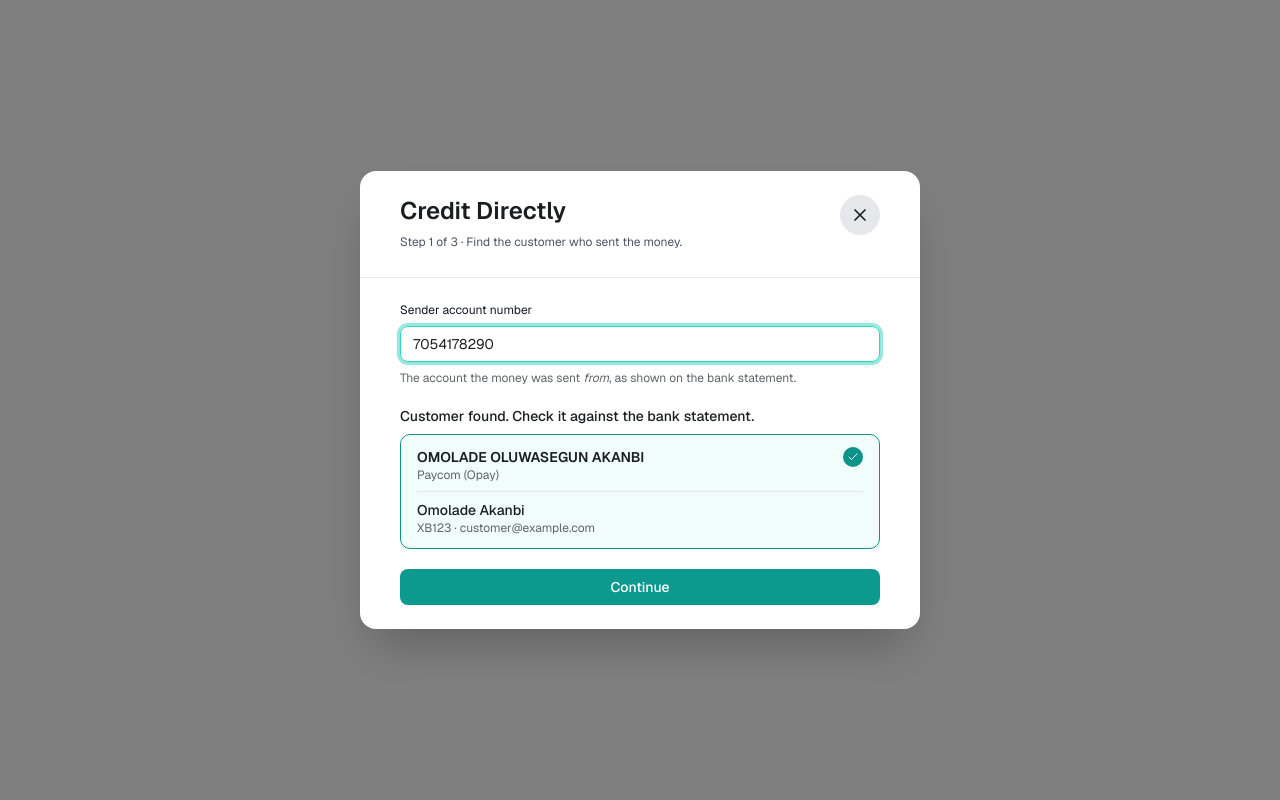
Scenario: CreditDirectlyModal: details › goes back to the lookup with Change
Click the button "Continue".
click(640, 587)  # box left=400, top=569, right=880, bottom=605
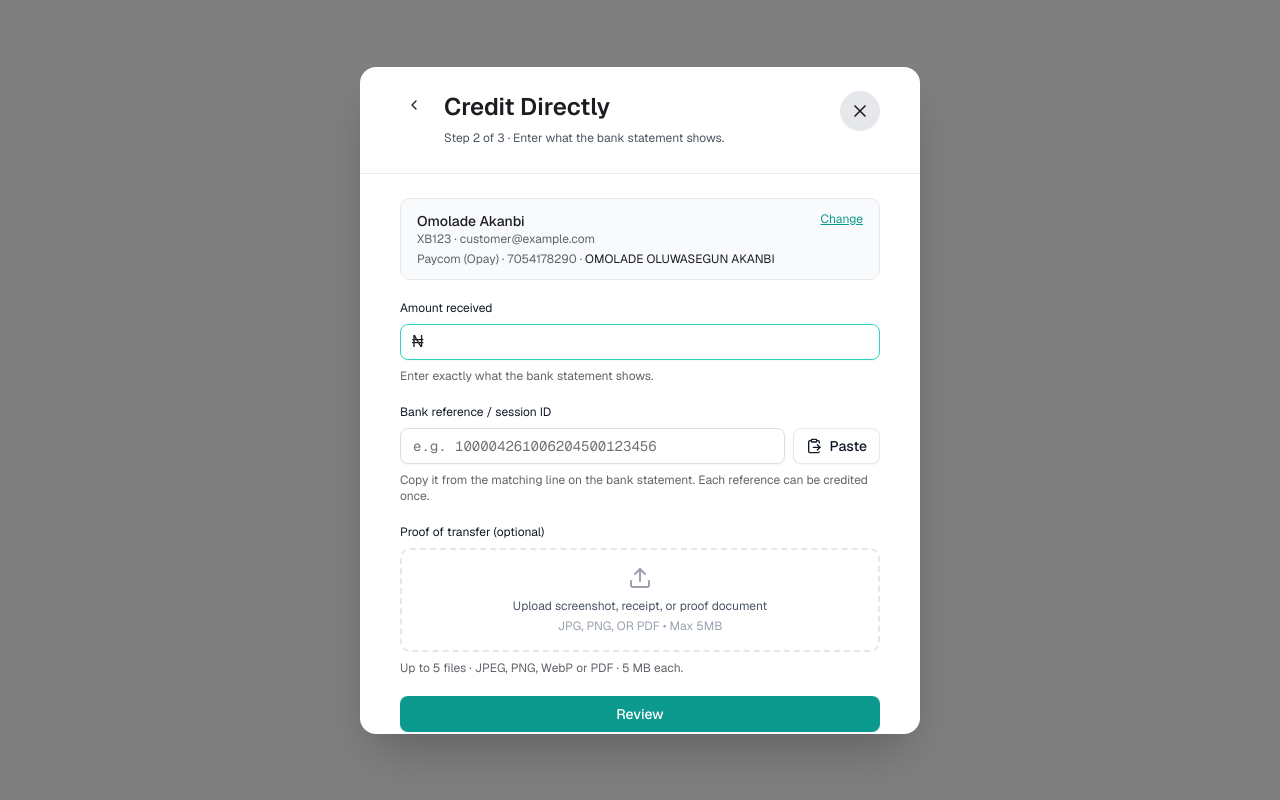
Expected: the field labelled "Amount received" is shown, left=400, top=324, right=880, bottom=360
Click the button "Change".
click(842, 218)  # box left=820, top=210, right=863, bottom=226
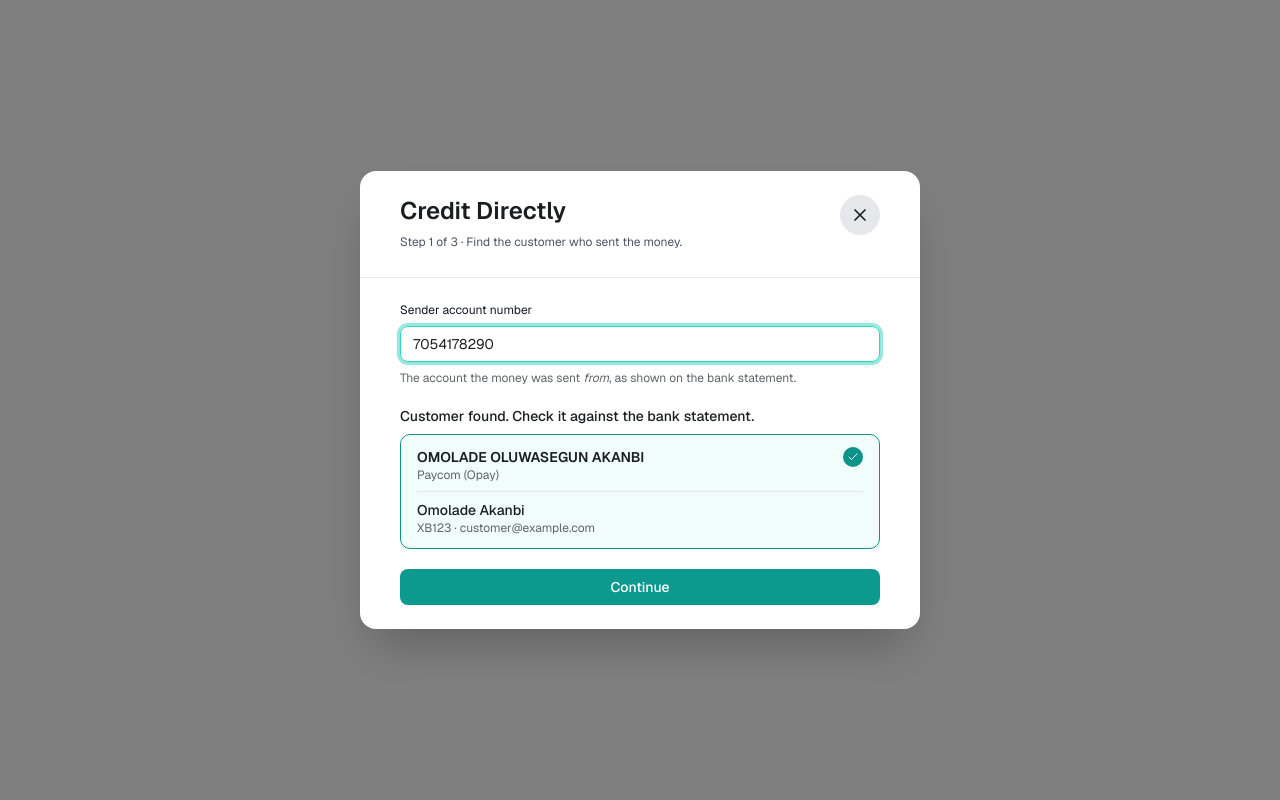
Expected: the field labelled "Sender account number" holds "7054178290", left=400, top=326, right=880, bottom=362
